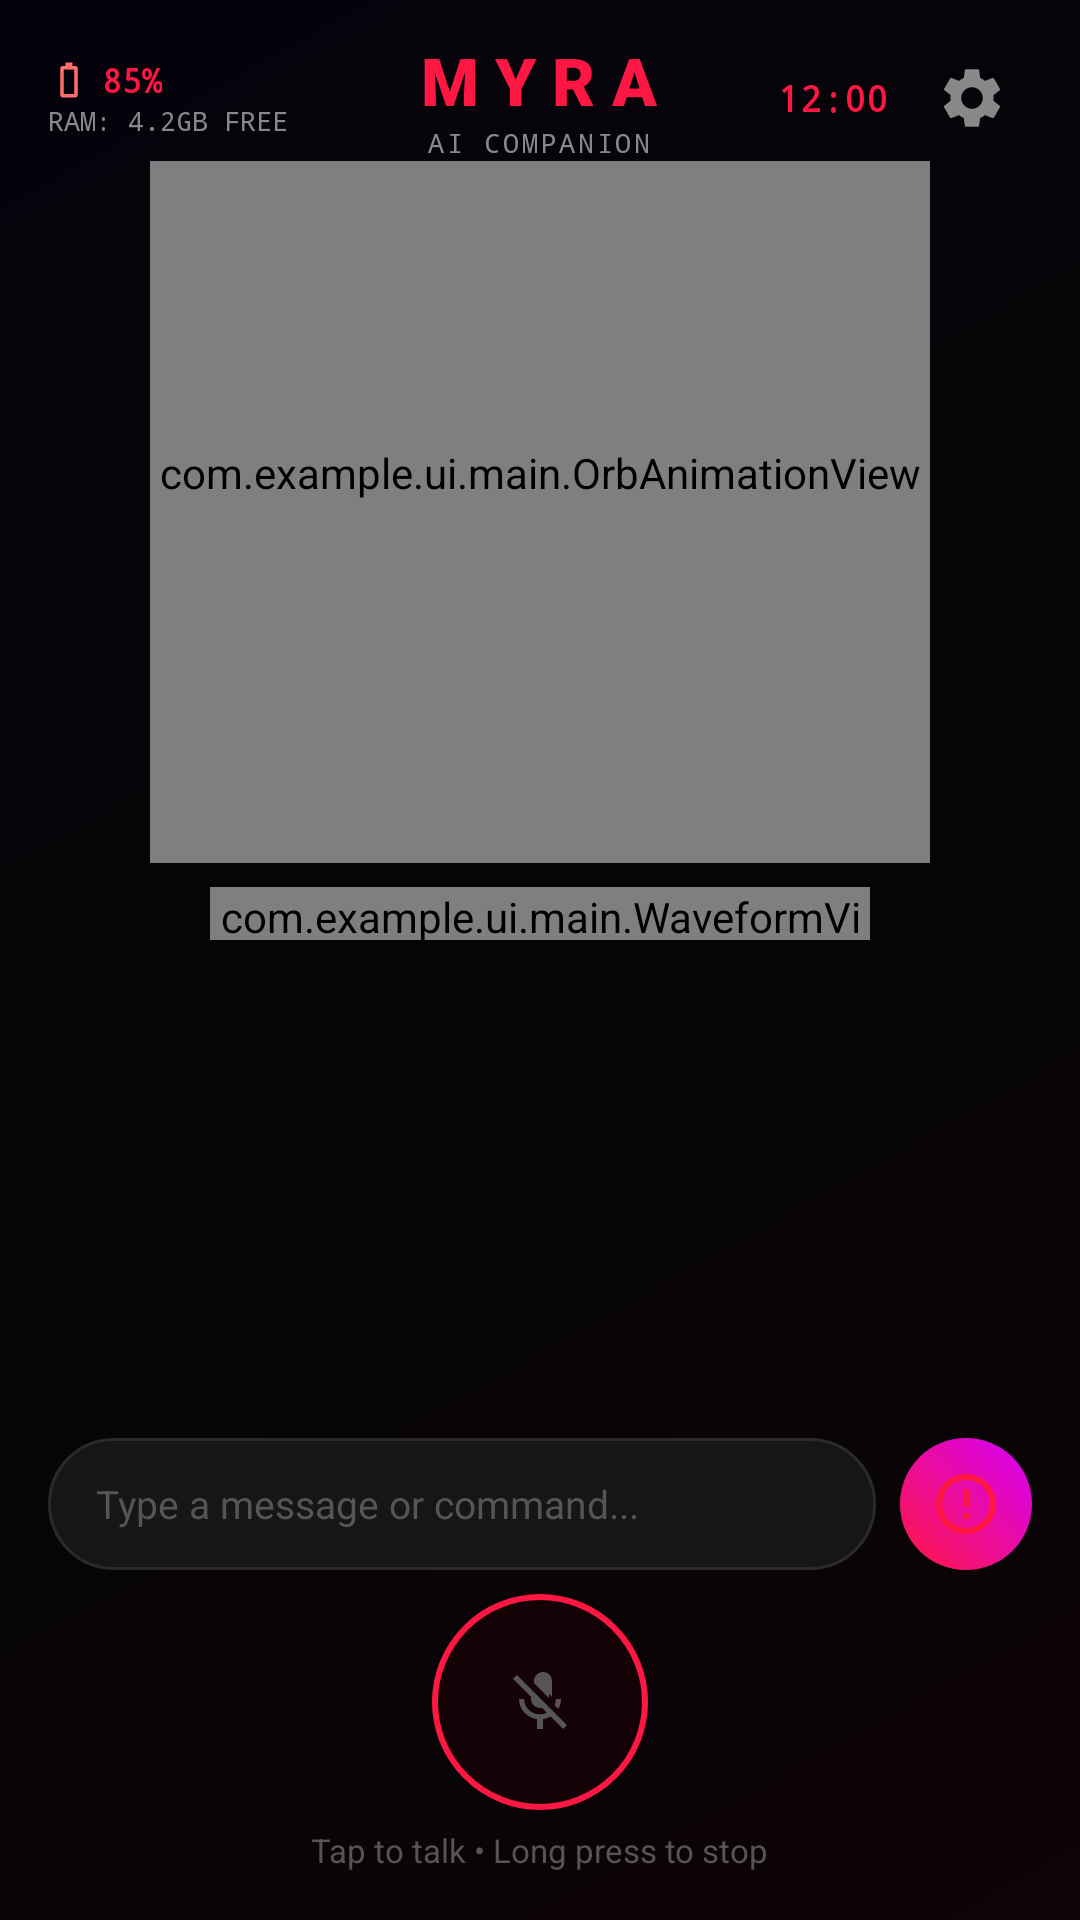

Icon bounding boxes for this 1080w x 1920h phone screenshot, format (x1, y1, x2, y2):
Battery: (60, 62, 78, 98)
Microphone Toggle: (432, 1594, 648, 1810)
Settings: (944, 69, 1000, 127)
